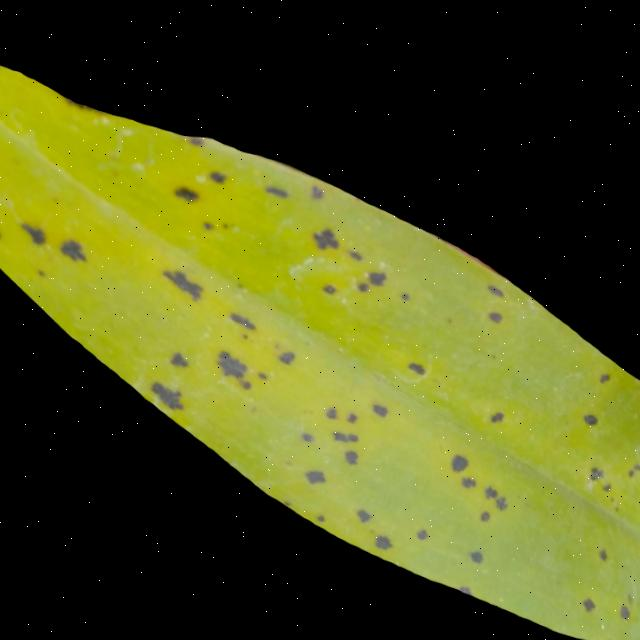mite: (137, 162, 635, 568), (445, 442, 512, 518), (443, 441, 474, 472), (172, 181, 199, 201), (448, 445, 469, 467), (167, 346, 189, 366), (365, 263, 388, 282), (303, 463, 327, 481), (372, 527, 393, 546), (467, 541, 484, 559), (580, 588, 597, 605), (581, 403, 599, 419), (488, 402, 505, 418)
spots: (0, 44, 640, 640)
